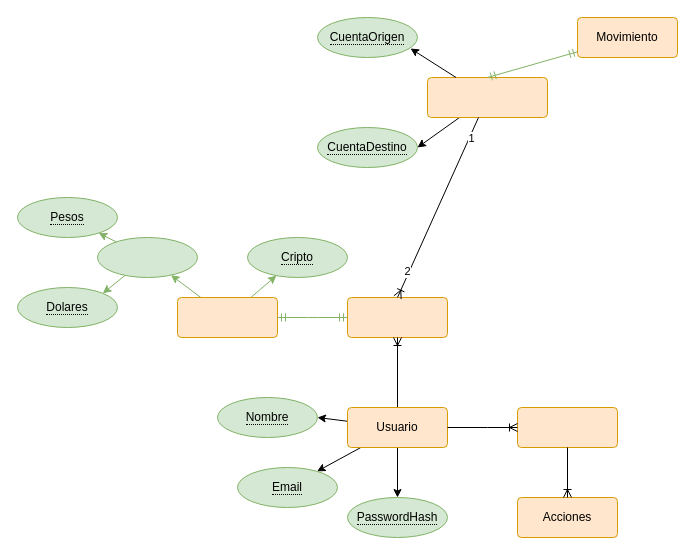
This 695x555 diagram has some shape labels left out. Here are the shapes that lost their labels. From the top down, the centre of each, then its label:
At pixel 487 97: "MovimientoCuenta".
At pixel 147 257: "Fidiuciaria".
At pixel 227 317: "TipoCuennta".
At pixel 397 317: "Cuenta".
At pixel 567 427: "Roles".
